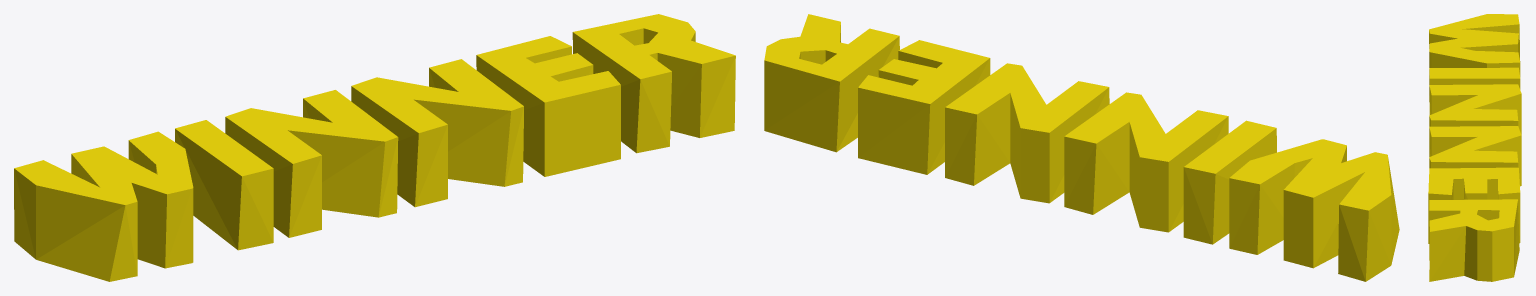
Rendered from Text_Winner.fbx.
3 views of the same model, side by side, from view 1: azimuth 30°, elevation 25°; view 2: azimuth 150°, elevation 25°; view 3: azimuth 270°, elevation 25° (orthographic). The views are drawn at different scales.
Parts seen in each view (by area): view 1: Text_Winner; view 2: Text_Winner; view 3: Text_Winner.
Boxes of the visible parts, box(x1,y1,x2,y2) form: Text_Winner: box(14, 14, 735, 281); Text_Winner: box(764, 14, 1399, 281); Text_Winner: box(1428, 14, 1521, 281).
Bounding box in the file's own units: 346 × 37.5 × 62.55.
